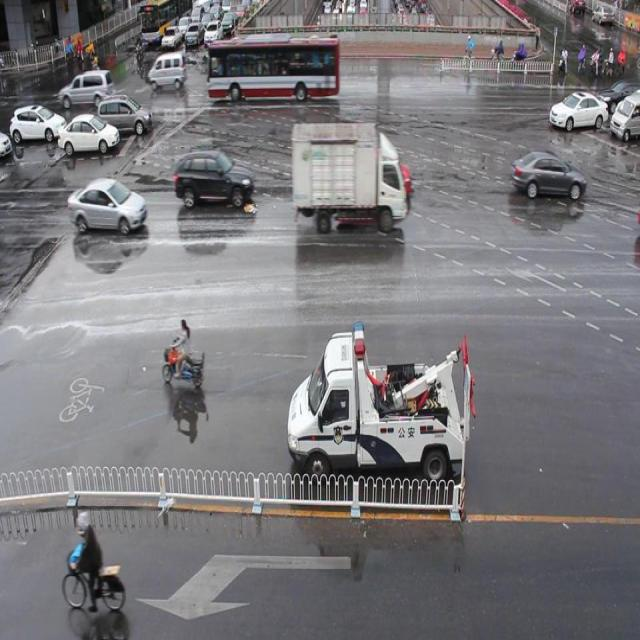bus: (289, 120, 404, 230)
car: (176, 149, 252, 208), (69, 177, 147, 234), (334, 150, 413, 202), (508, 148, 584, 200), (547, 90, 606, 130)
van: (207, 39, 340, 101)
